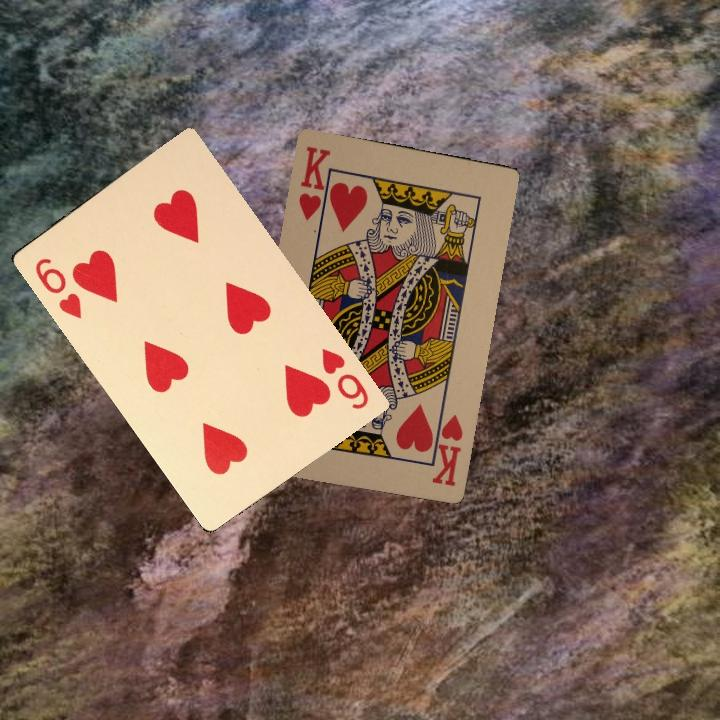6h: (317, 344, 371, 413), (30, 253, 84, 320)
Kh: (294, 142, 335, 225), (425, 407, 466, 489)
